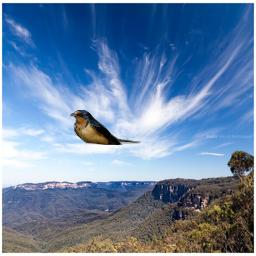Swallow: (70, 110, 141, 145)
